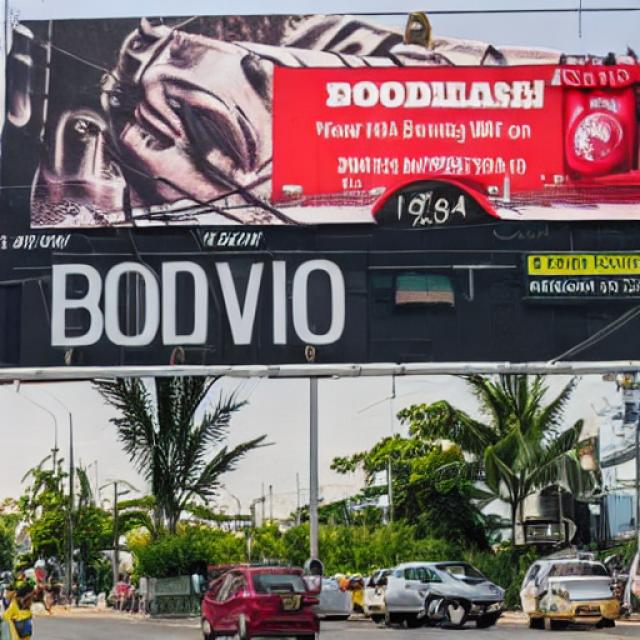Billboard: (2, 13, 640, 371)
